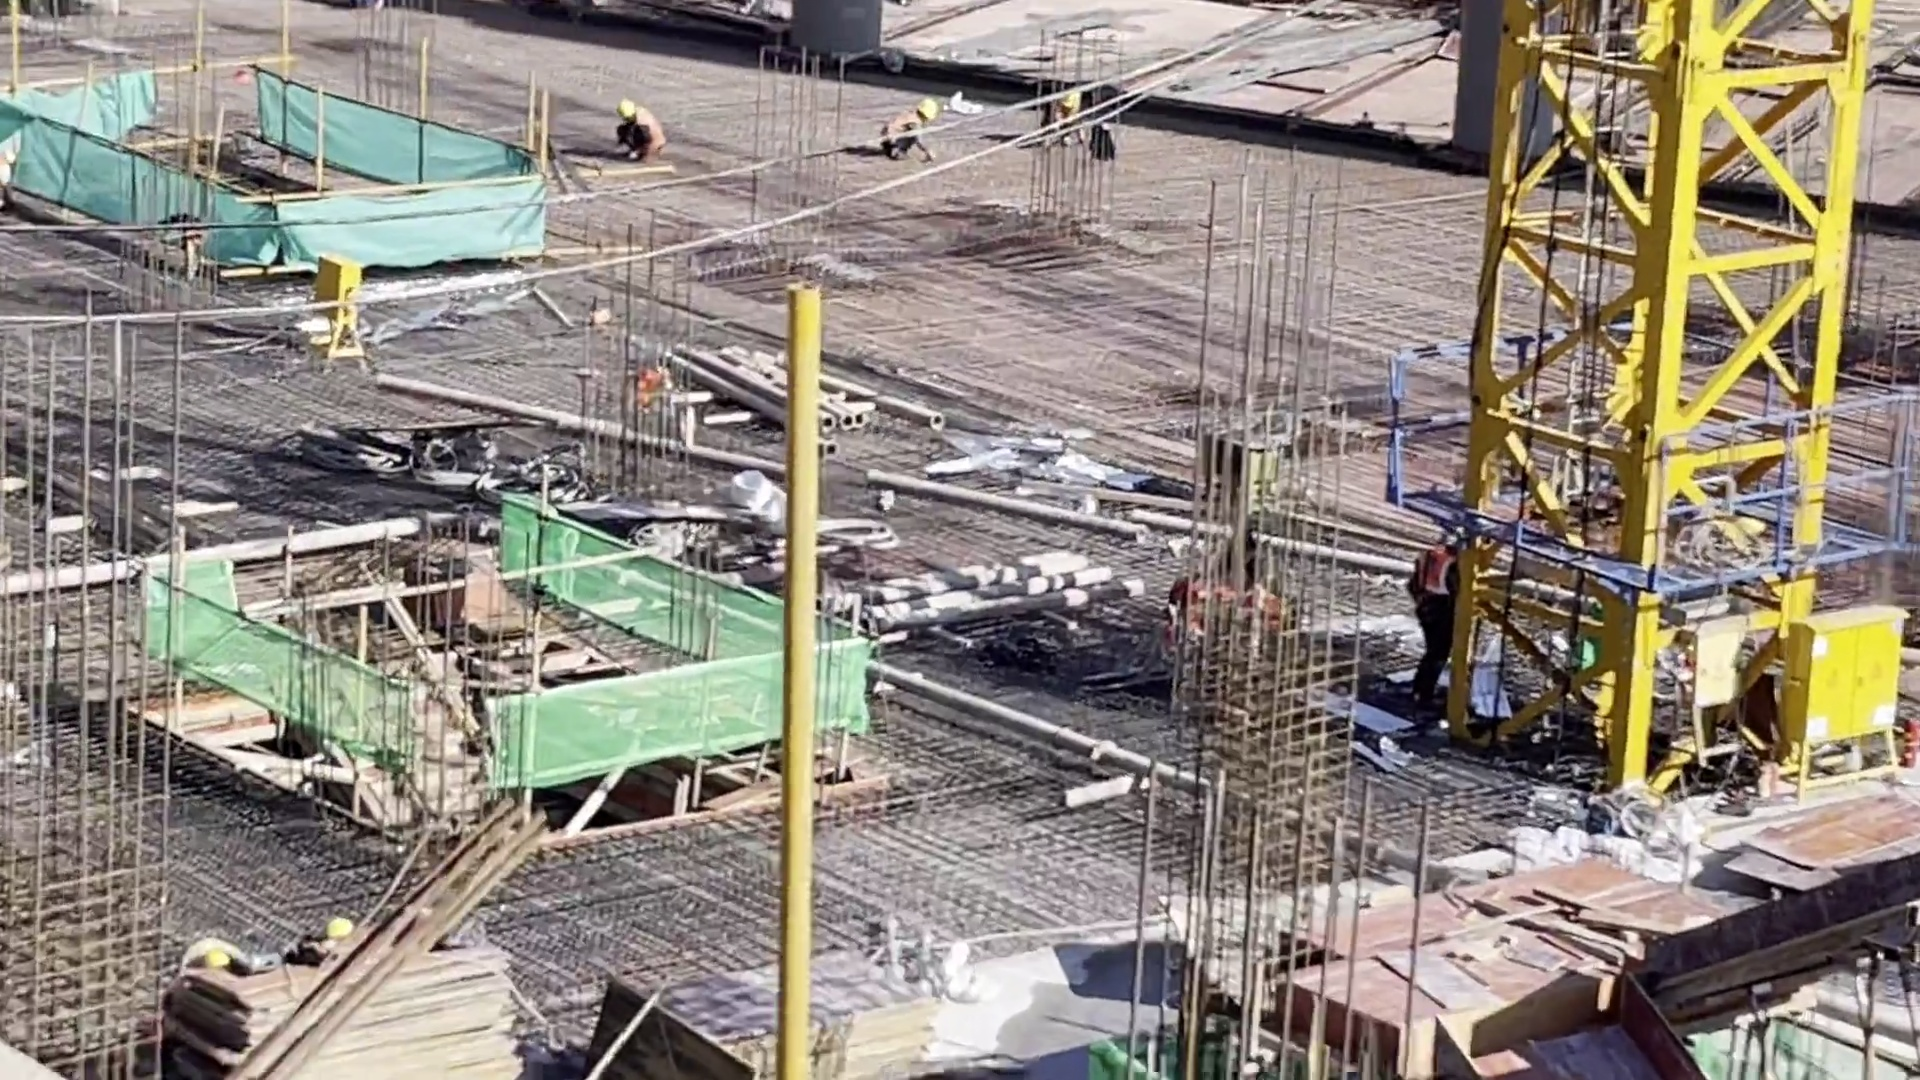board: (178, 962, 519, 1074)
ebox: (1792, 611, 1904, 766), (308, 260, 358, 362)
helmet: (327, 919, 354, 945), (615, 99, 634, 119), (915, 101, 936, 119)
person: (1408, 526, 1467, 719), (611, 97, 663, 166), (883, 103, 939, 161)
vest: (1417, 550, 1455, 593), (638, 110, 662, 146)
